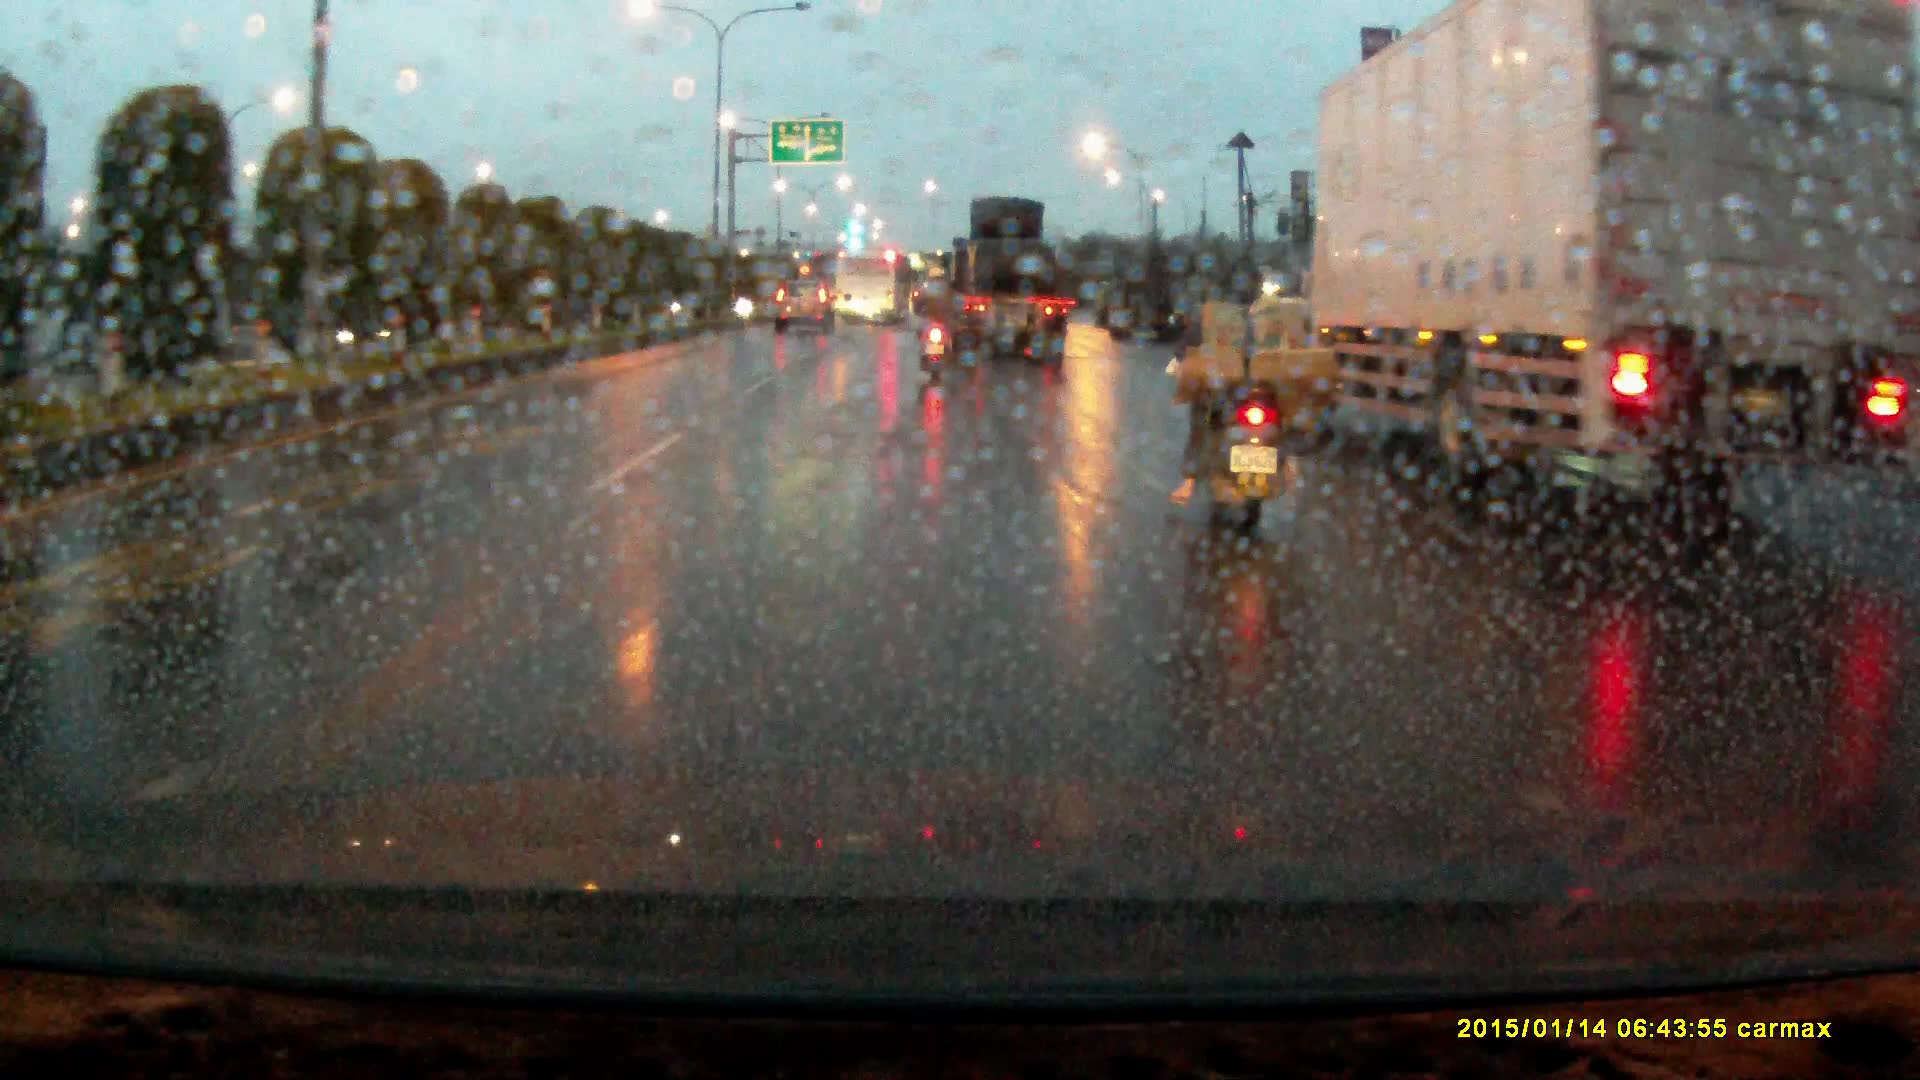rider: (1167, 253, 1347, 567), (912, 287, 955, 390)
vehicle: (1301, 1, 1891, 507), (931, 199, 1067, 368), (1098, 263, 1179, 349), (832, 257, 903, 333), (775, 280, 836, 342)
